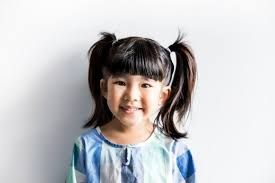person: (87, 31, 175, 131)
